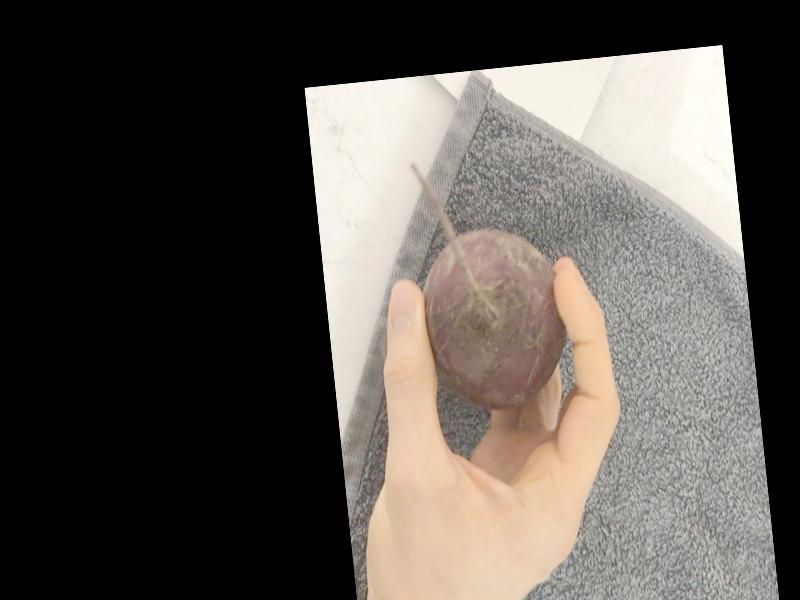Beet: (408, 147, 573, 415)
